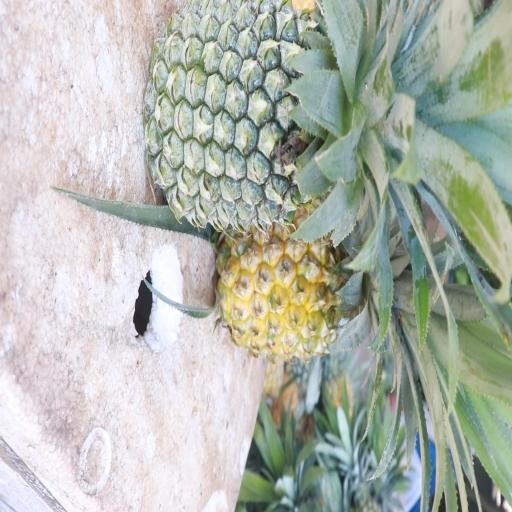Pineapple - v8 v1: (214, 229, 462, 370)
